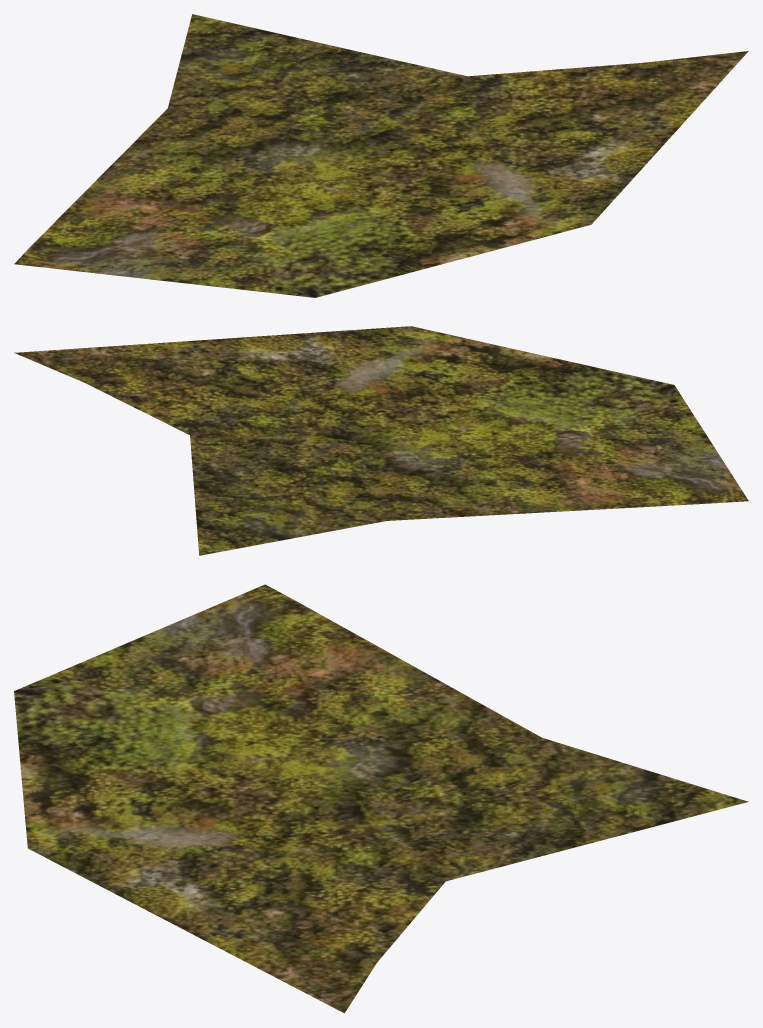
Rendered from moss_float04.dae.
3 renders of one model, top to bottom at view 1: azimuth 30°, elevation 25°; view 2: azimuth 150°, elevation 25°; view 3: azimuth 270°, elevation 25°, orthographic. The views are drawn at different scales.
Parts seen in each view (by area): view 1: 04; view 2: 04; view 3: 04.
Boxes of the visible parts, x1,y1,x2,y2 form: 04: (14,14,748,297); 04: (14,326,748,555); 04: (14,584,748,1013).
Bounding box in the file's own units: 1.73 × 0 × 1.25.
